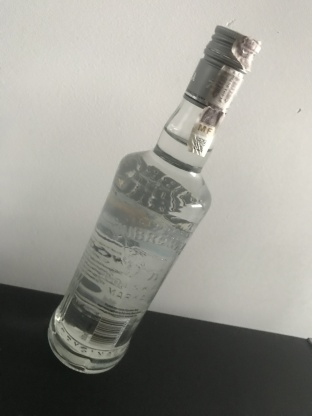nakretka: (181, 22, 262, 114)
